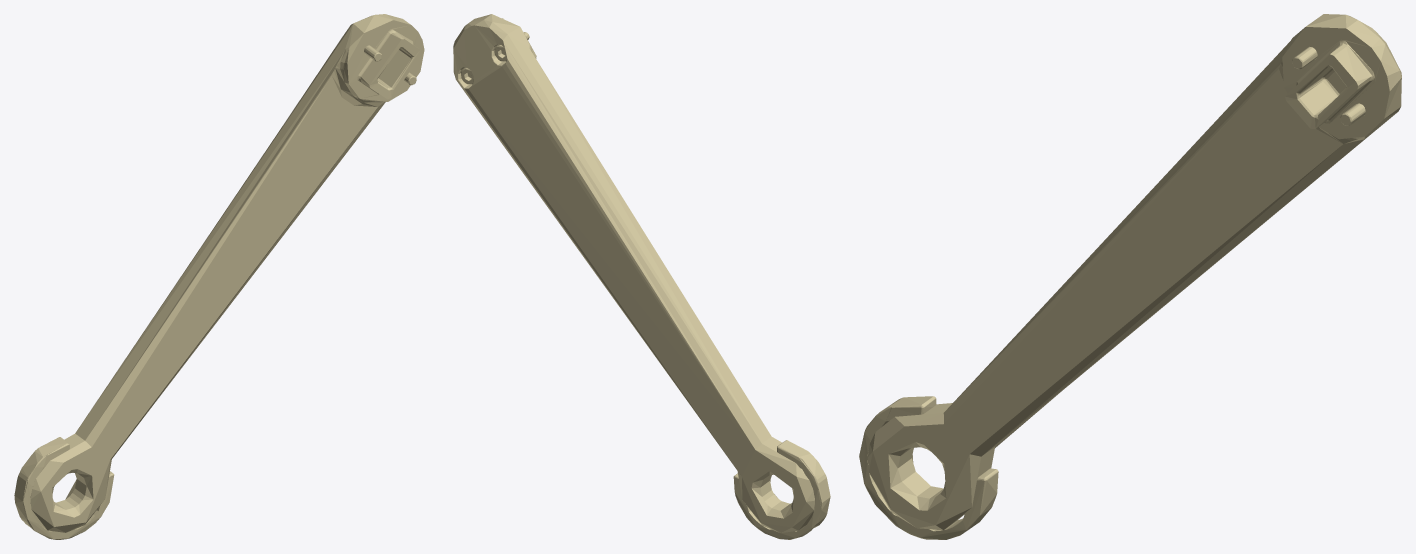
Rendered from LowerLegB.dae.
3 renders of one model, left to right at view 1: azimuth 30°, elevation 25°; view 2: azimuth 150°, elevation 25°; view 3: azimuth 330°, elevation 25°, orthographic. The views are drawn at different scales.
Parts seen in each view (by area): view 1: visual_Lower_Leg_B; view 2: visual_Lower_Leg_B; view 3: visual_Lower_Leg_B.
Boxes of the visible parts, x1,y1,x2,y2 form: visual_Lower_Leg_B: (14,14,424,539); visual_Lower_Leg_B: (453,14,830,539); visual_Lower_Leg_B: (859,14,1401,539).
Size of the model in its own units: 0.1354 by 0.02 by 0.1492.
